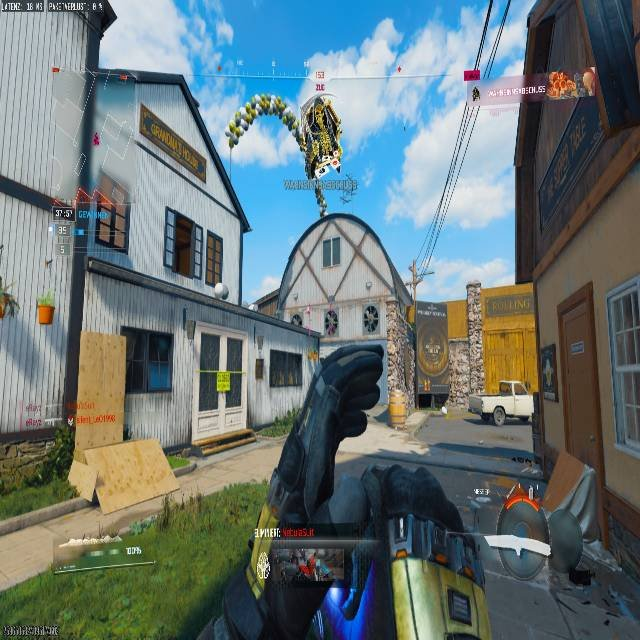player: (454, 84, 486, 174), (363, 305, 378, 333), (325, 310, 338, 336), (291, 314, 302, 326)
